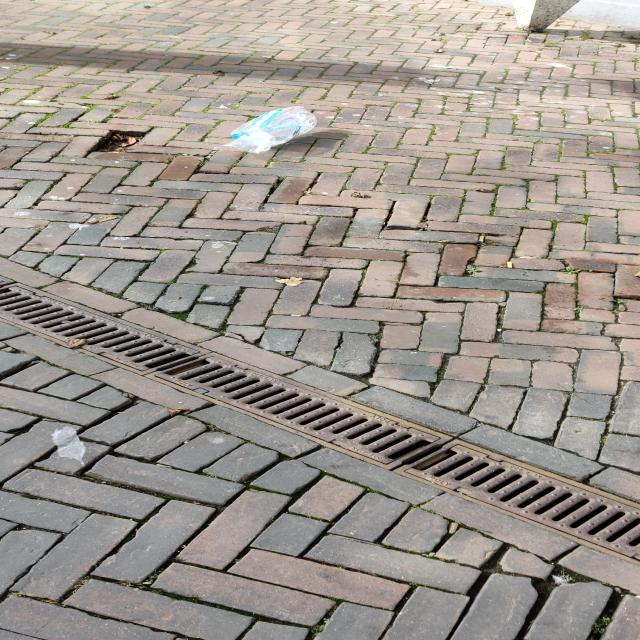litter: (214, 105, 321, 156)
